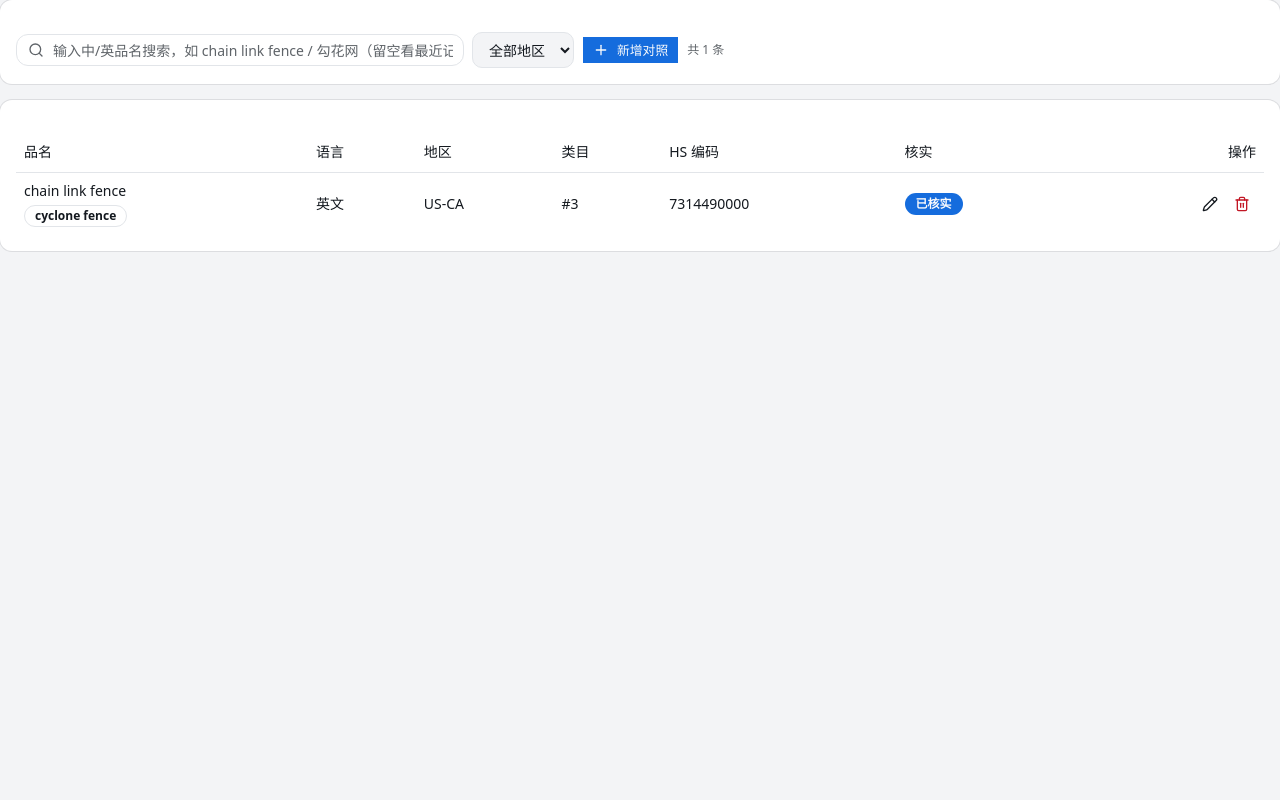
Test case: NameMappingPanel · 删除（DELETE） › 删除失败（404）→ ConfirmDialog 不关闭，错误在 role=alert 里可见
The width and height of the screenshot is (1280, 800).
Click the button named "删除 chain link fence" at (1242, 204), box [1228, 190, 1256, 218]
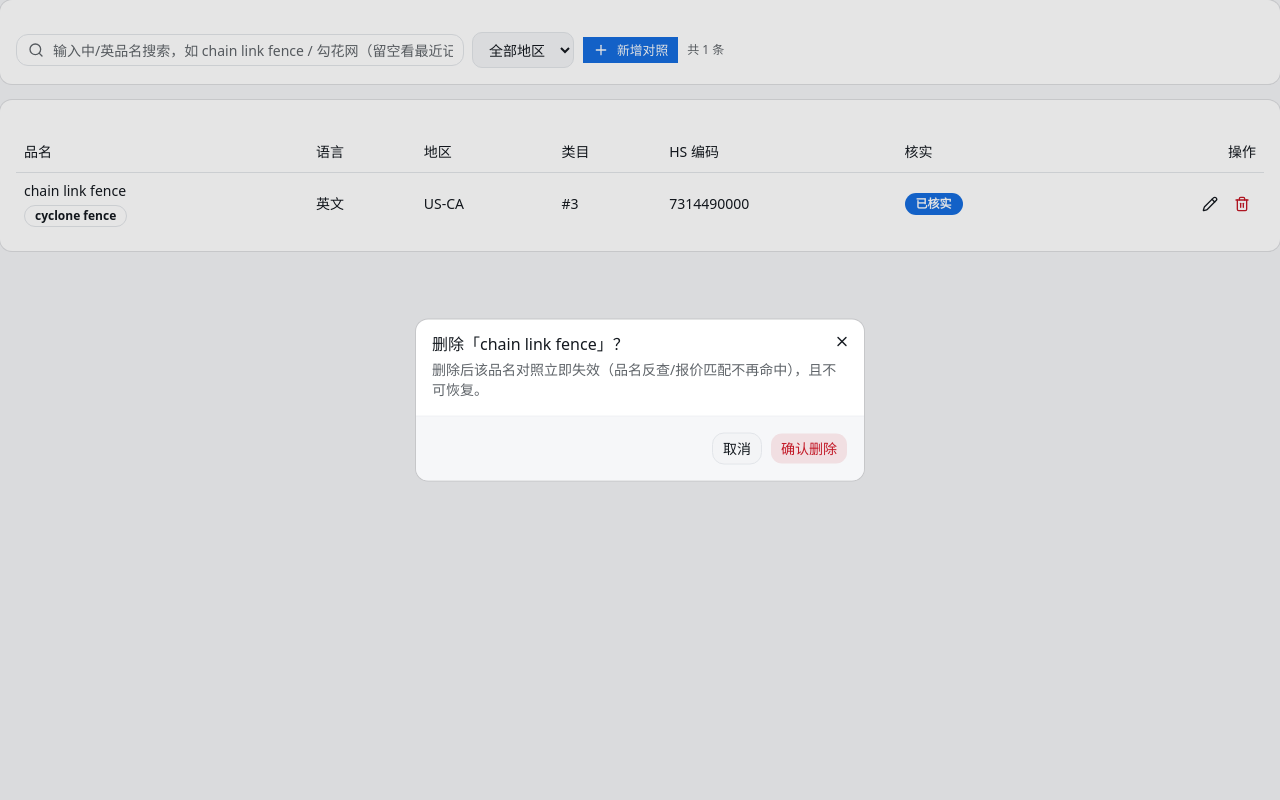
Click the button "确认删除" at (809, 448), box [770, 432, 848, 464]
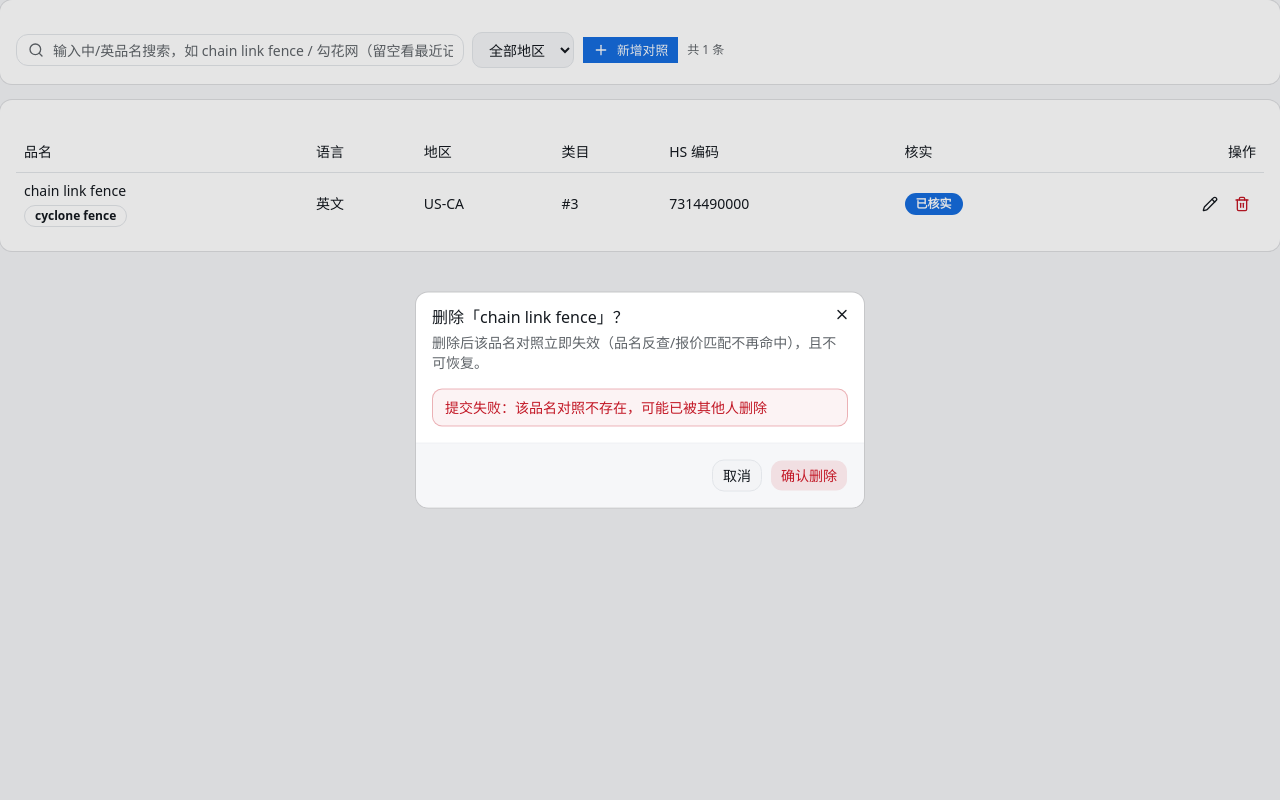
Now the text "删除「chain link fence」？" is shown, box [432, 306, 629, 328]
Now the message "提交失败：该品名对照不存在，可能已被其他人删除" is shown, box [432, 388, 848, 426]
